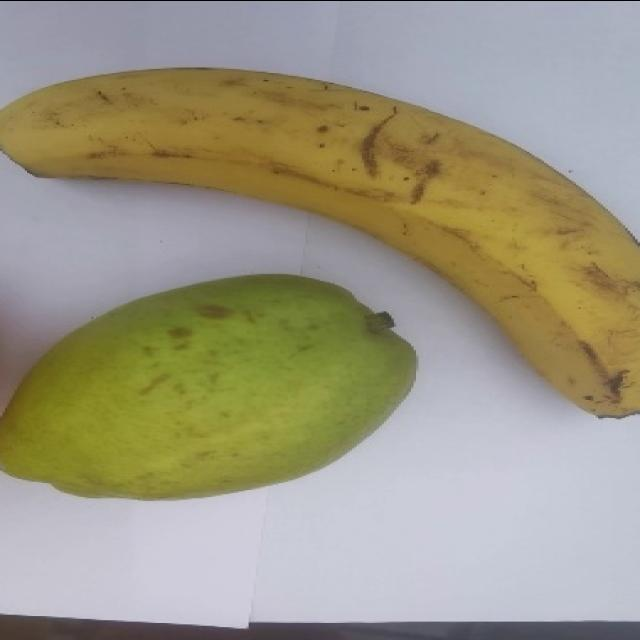Banana: (0, 65, 639, 420)
